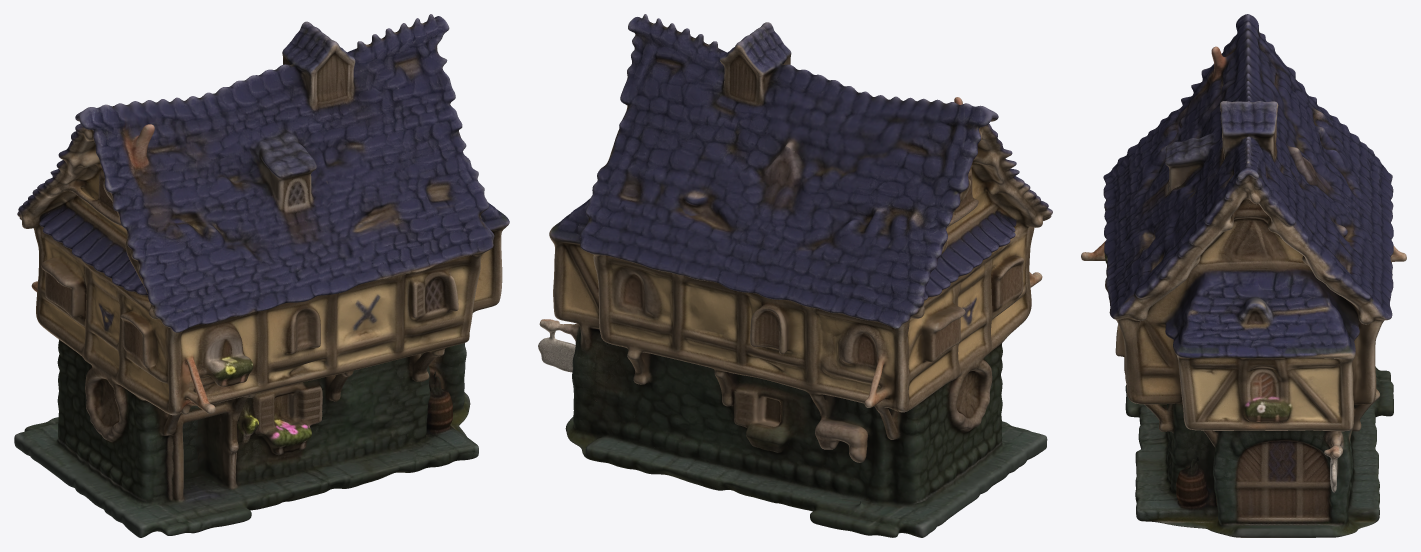
File: kraemer.glb
The picture shows the model from 3 angles, left to right: view 1: azimuth 30°, elevation 25°; view 2: azimuth 150°, elevation 25°; view 3: azimuth 270°, elevation 25°; orthographic projection. The views are drawn at different scales.
Size of the model in its own units: 1.9 by 1.78 by 1.39.
Materials: 1 (1 with a texture image).
